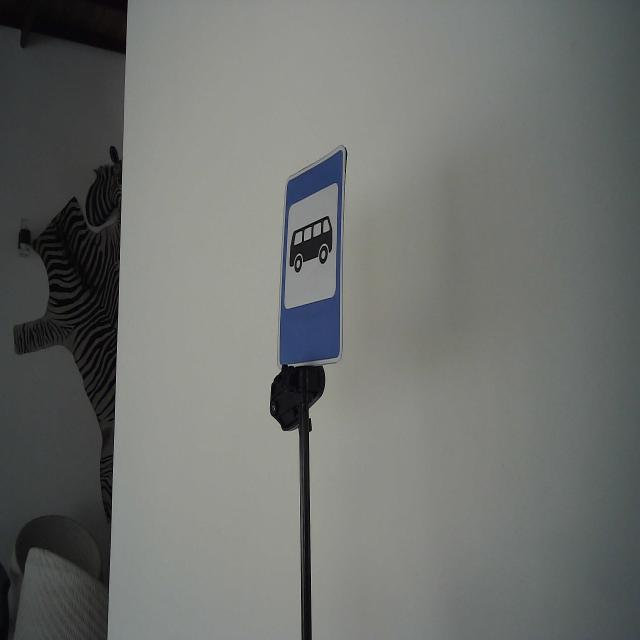bus_stop: (276, 143, 348, 368)
